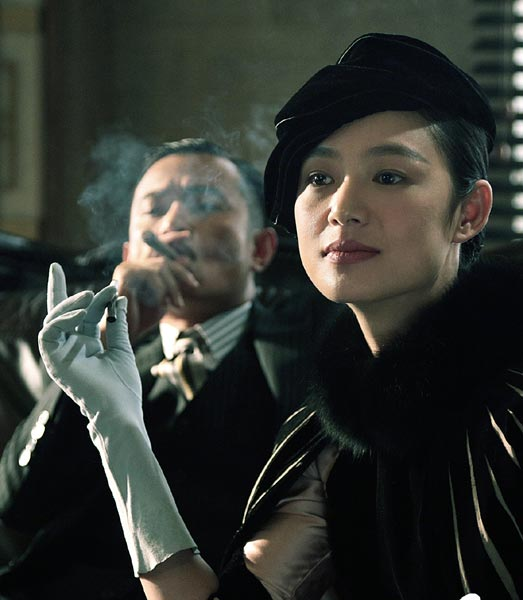cigarette: (138, 226, 180, 260), (109, 294, 119, 324)
